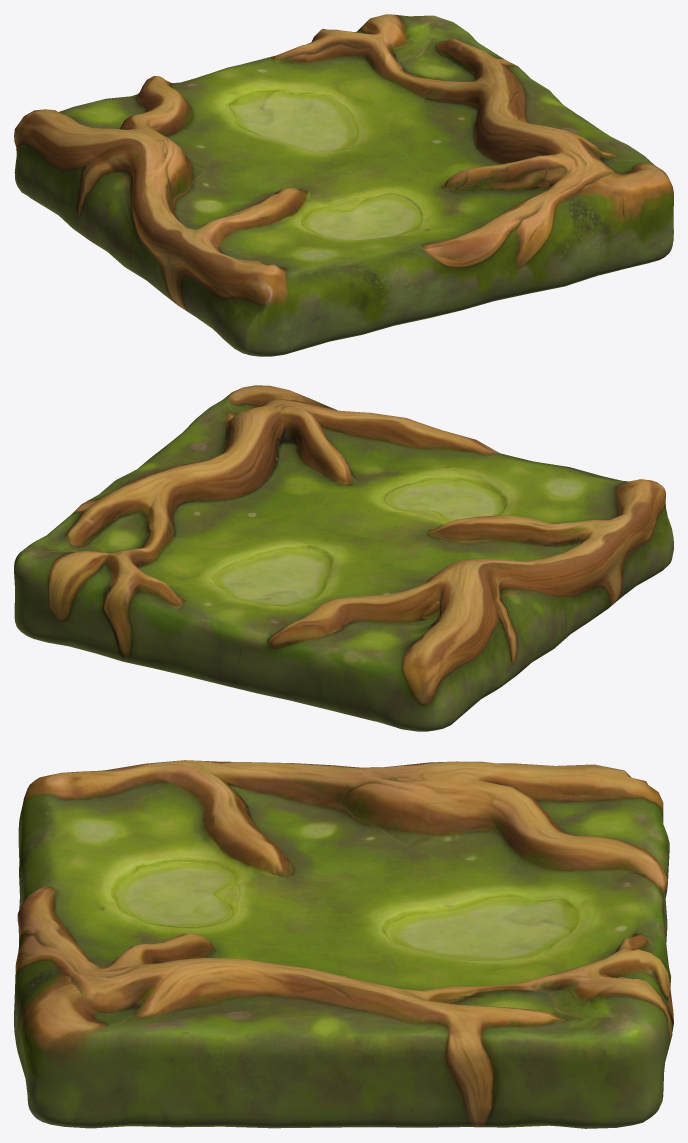
Rendered from gndx_swamp.glb.
The picture shows the model from 3 angles, top to bottom: view 1: azimuth 30°, elevation 25°; view 2: azimuth 150°, elevation 25°; view 3: azimuth 270°, elevation 25°; orthographic projection. The views are drawn at different scales.
Visible parts, largest first — view 1: Mesh0; view 2: Mesh0; view 3: Mesh0.
Boxes of the visible parts, x1=… form: Mesh0: x1=14, y1=14, x2=673, y2=356; Mesh0: x1=14, y1=385, x2=673, y2=731; Mesh0: x1=14, y1=760, x2=673, y2=1128.
Bounding box in the file's own units: 1.91 × 0.4548 × 1.89.
1 material, 1 textured.
